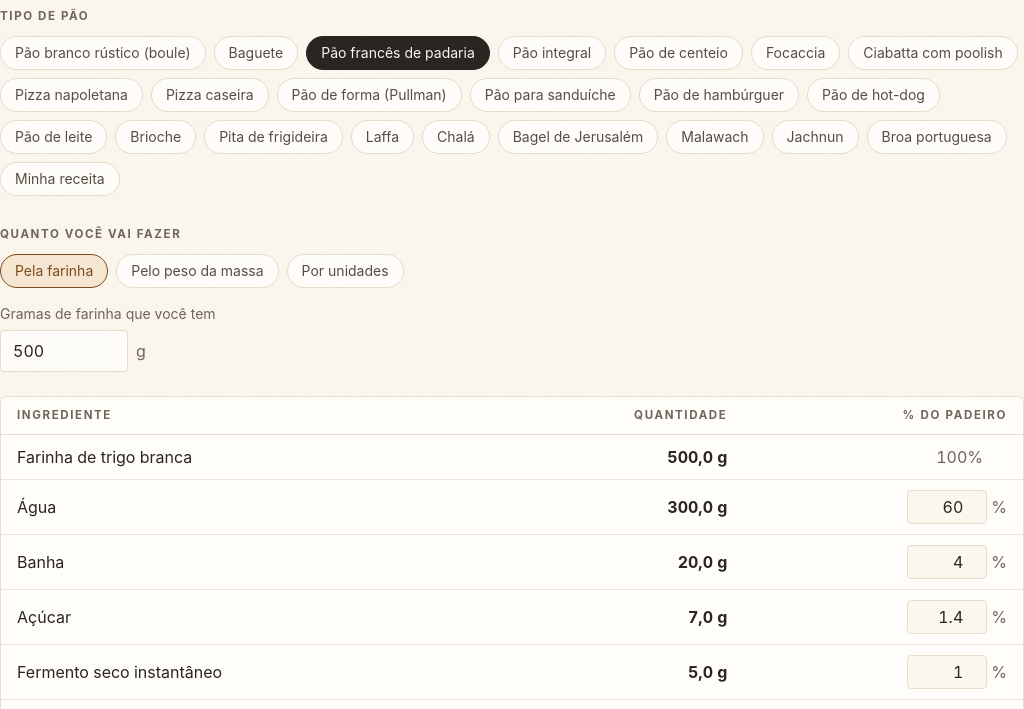
Test case: a calculadora em receita própria › avisa quando as farinhas não somam 100 e conserta
The width and height of the screenshot is (1024, 709).
Click the button "Minha receita" at (60, 179), box [0,162,120,196]
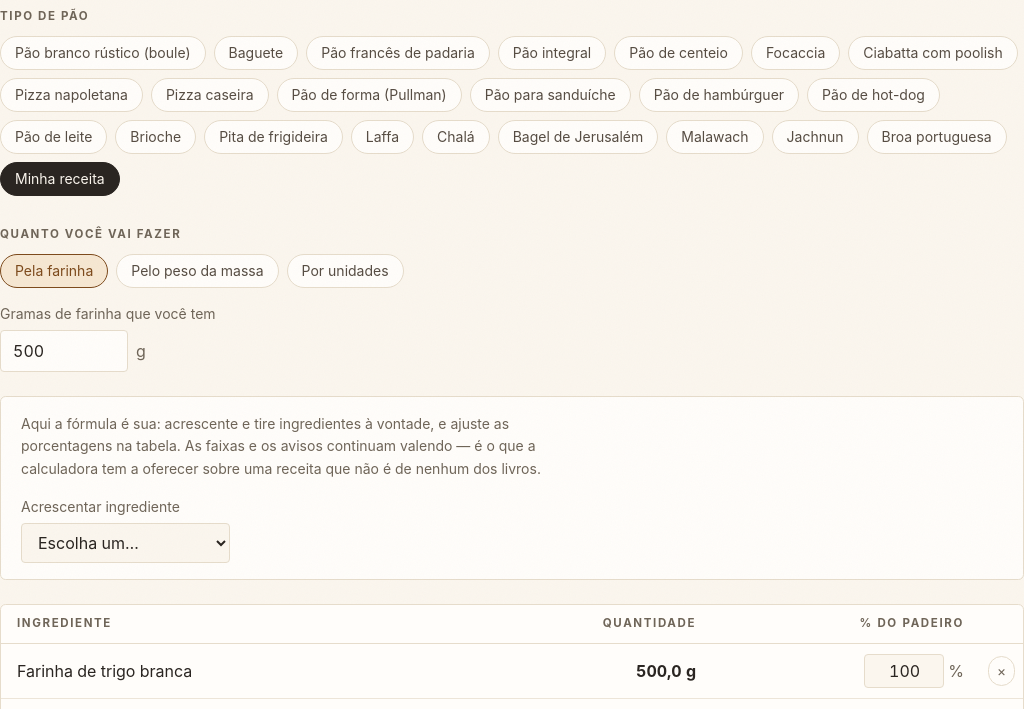
Select "Farinha de centeio" in the dropdown labelled "Acrescentar ingrediente" at (126, 543), box [21,523,230,563]
(page scrolled)
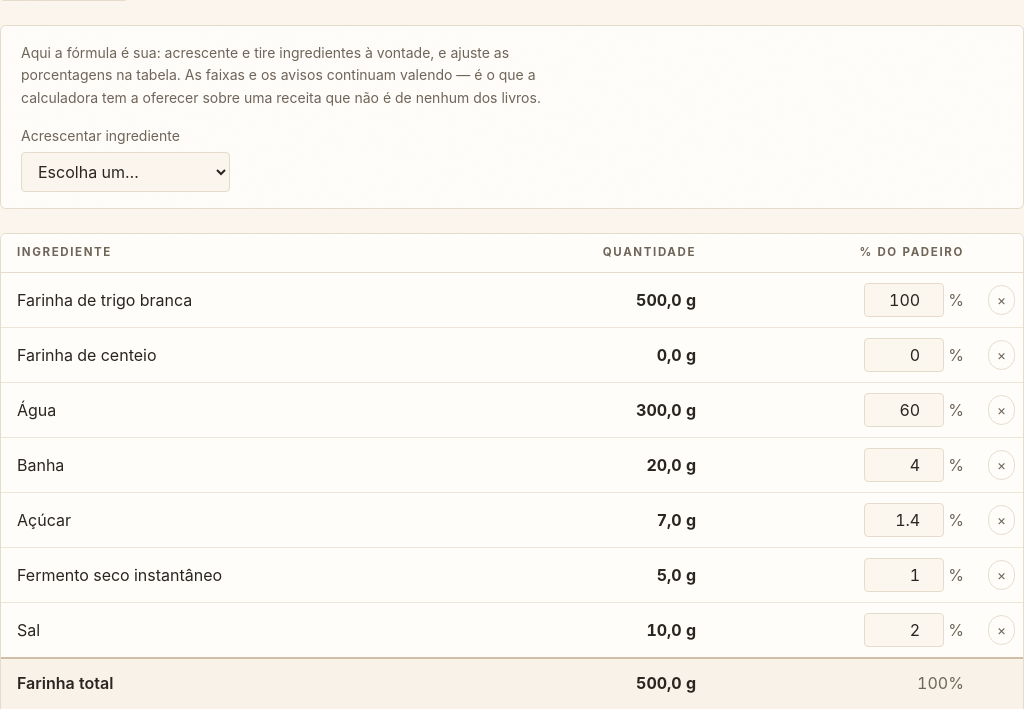
Replace the text in the number field named "% do padeiro — Farinha de centeio" with "25" at (904, 355), box [864,338,944,372]
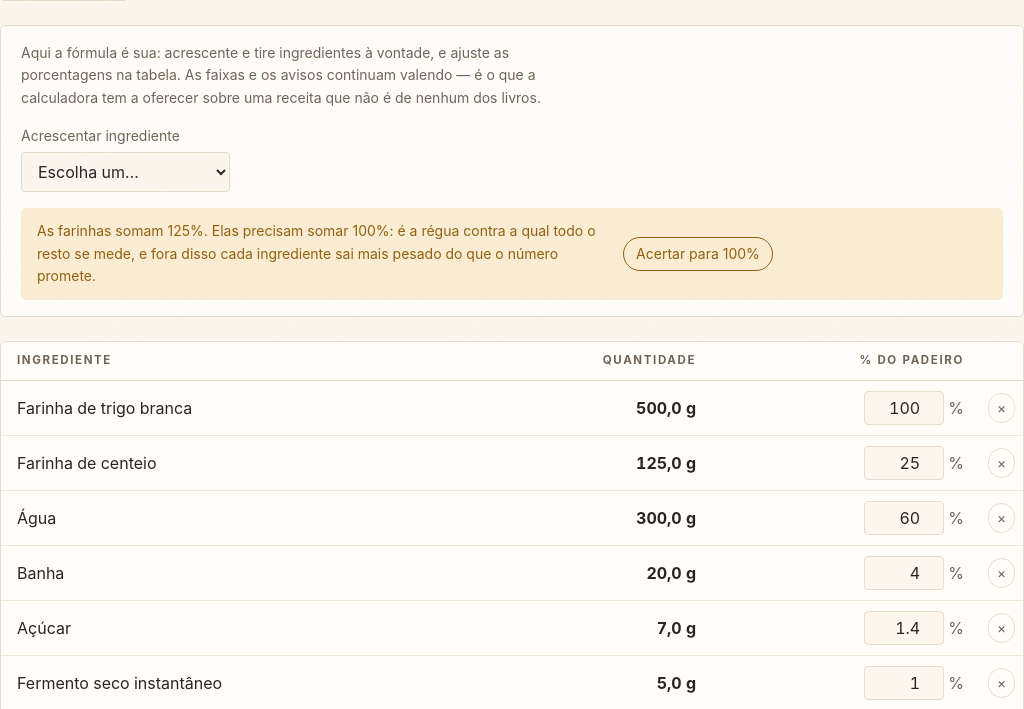
Check: the text "As farinhas somam" is shown, box [37,222,596,284]
Click the button "Acertar para 100%" at (698, 254), box [623,237,773,271]
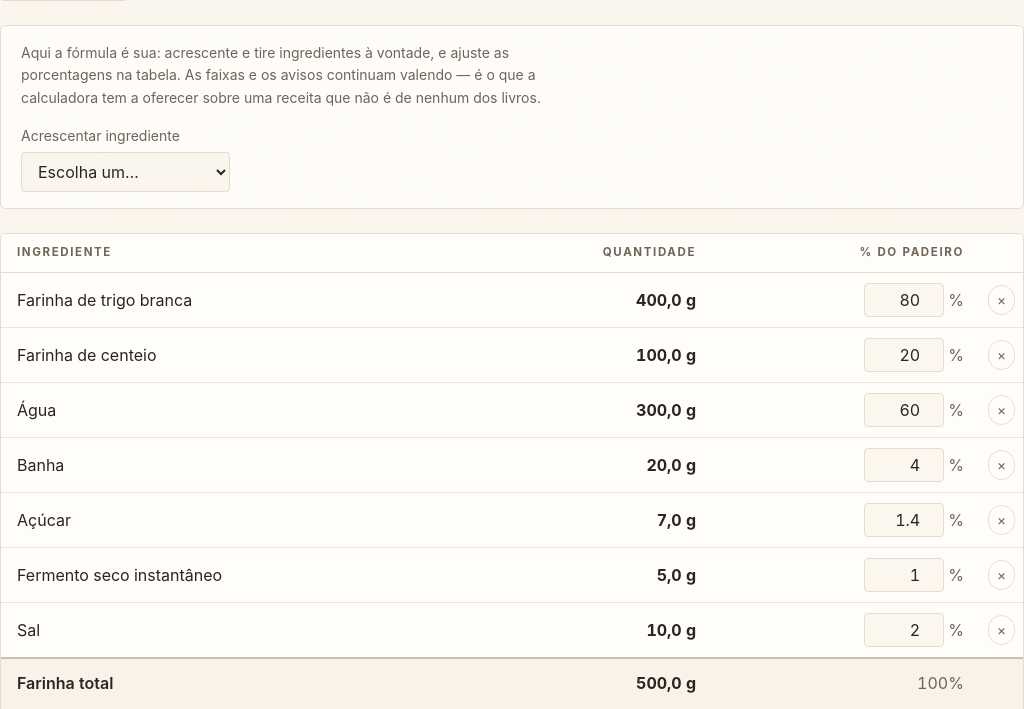
Check: the text "As farinhas somam" is gone
